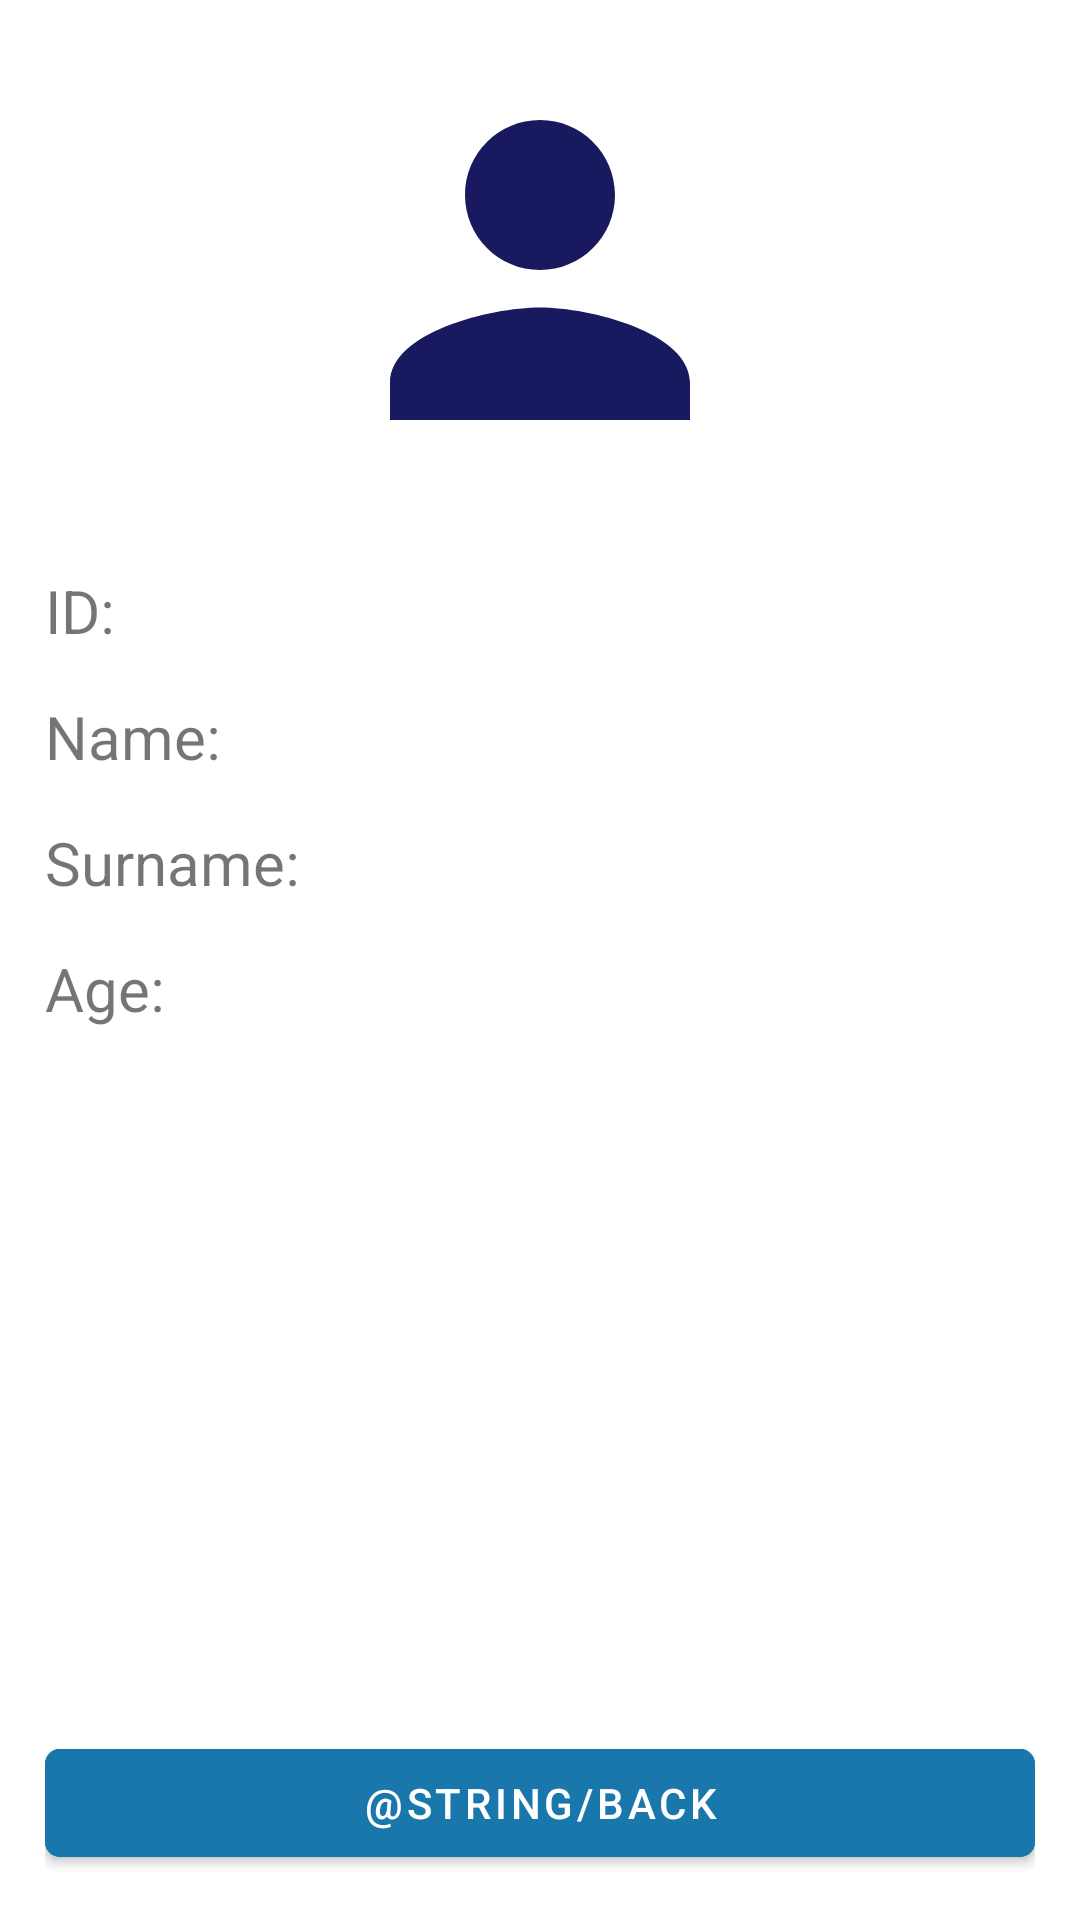

Point at icon controls on the screen. Image size 1080px x 1920px, points as (x,y).
person: (540,270)
